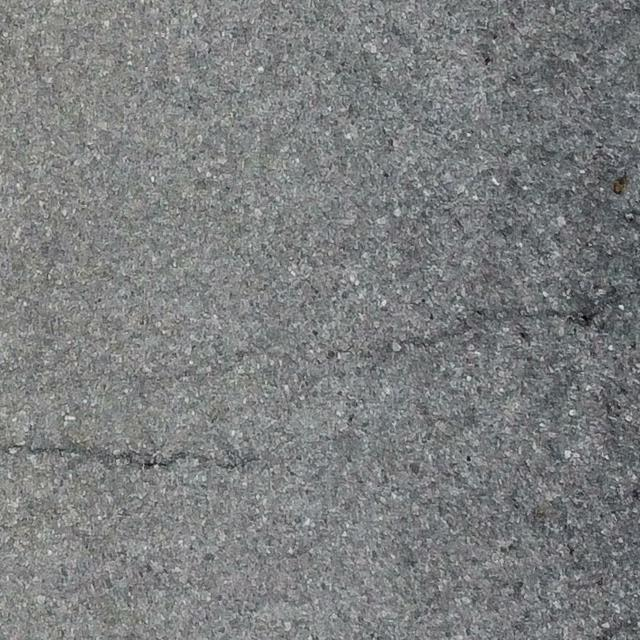TransverseCrack: (1, 441, 265, 473)
